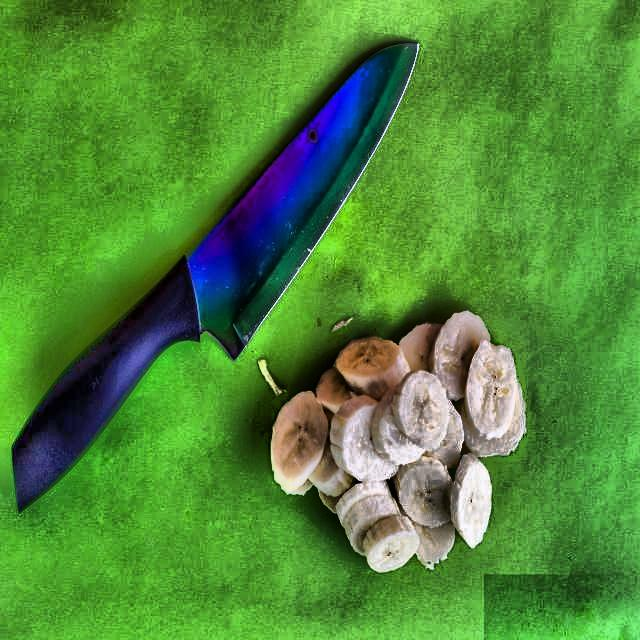knife: (8, 34, 419, 514)
